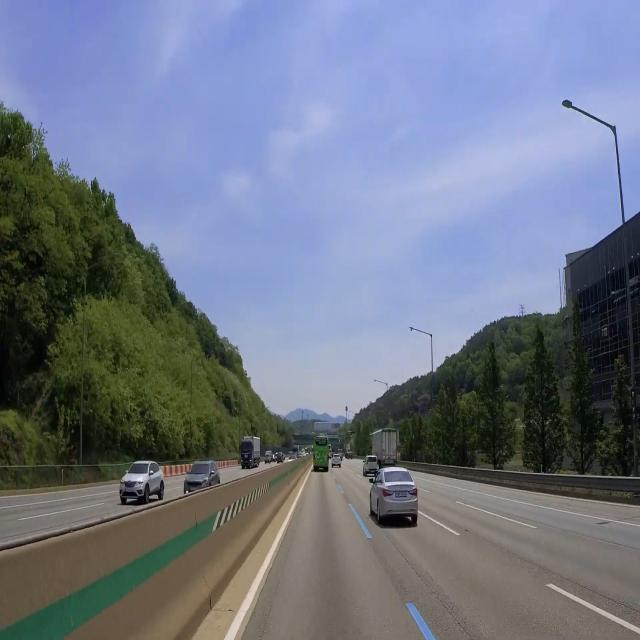car: (121, 485, 141, 498), (392, 490, 410, 501)
